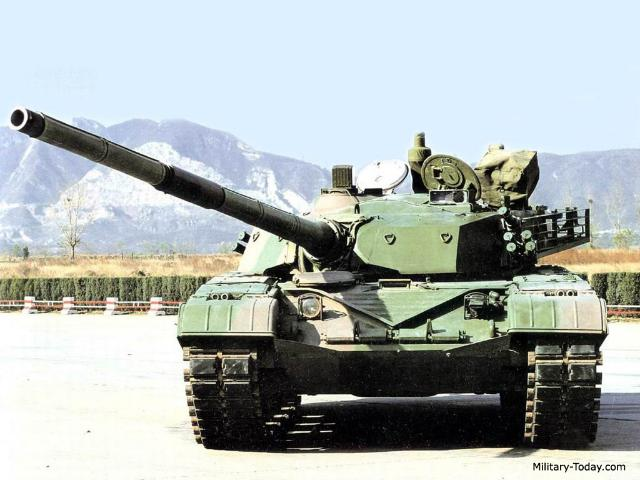tank: (166, 150, 598, 448)
